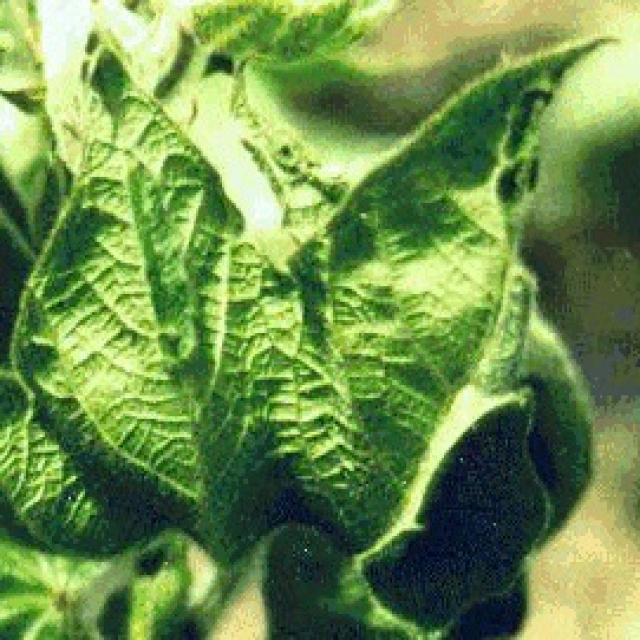Leaf Curl Virus: (80, 156, 464, 547)
